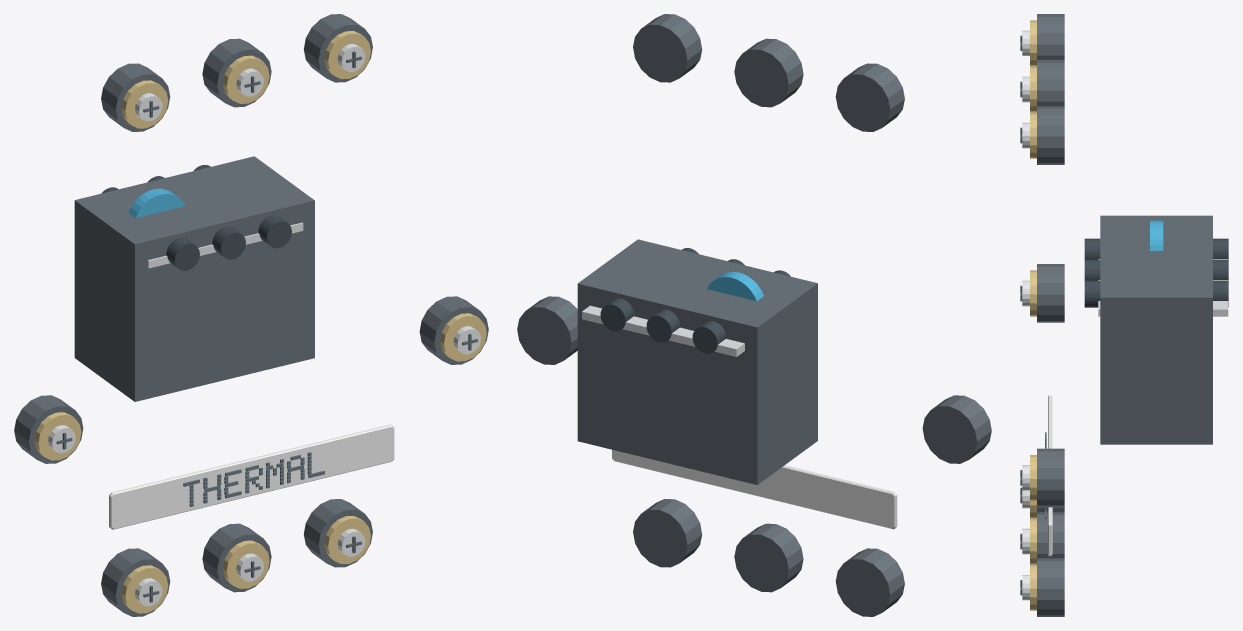
The model's file is thermalRelay.glb.
The picture shows the model from 3 angles, left to right: view 1: azimuth 30°, elevation 25°; view 2: azimuth 150°, elevation 25°; view 3: azimuth 270°, elevation 25°; orthographic projection. The views are drawn at different scales.
Visible parts, largest first — view 1: thermalRelay-preview; view 2: thermalRelay-preview; view 3: thermalRelay-preview.
Boxes of the visible parts, x1=… form: thermalRelay-preview: x1=14, y1=14, x2=488, y2=616; thermalRelay-preview: x1=517, y1=14, x2=991, y2=616; thermalRelay-preview: x1=1020, y1=14, x2=1228, y2=616.
Bounding box in the file's own units: 2.65 × 2.98 × 1.11.
